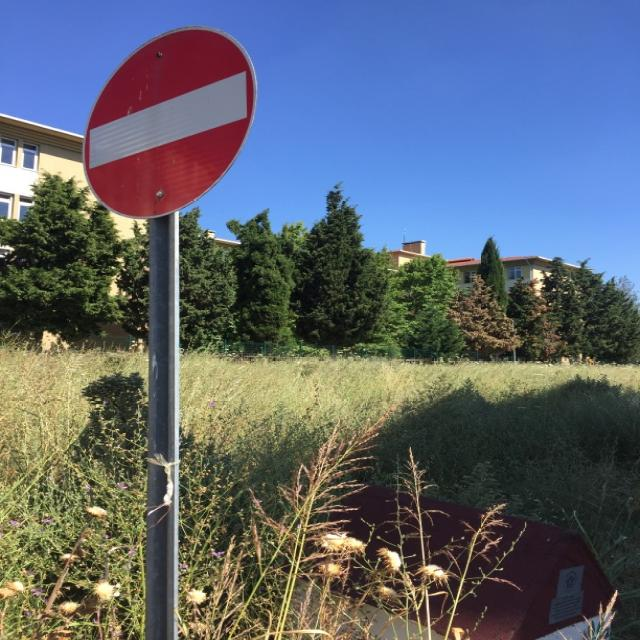girisyok: (83, 26, 258, 219)
